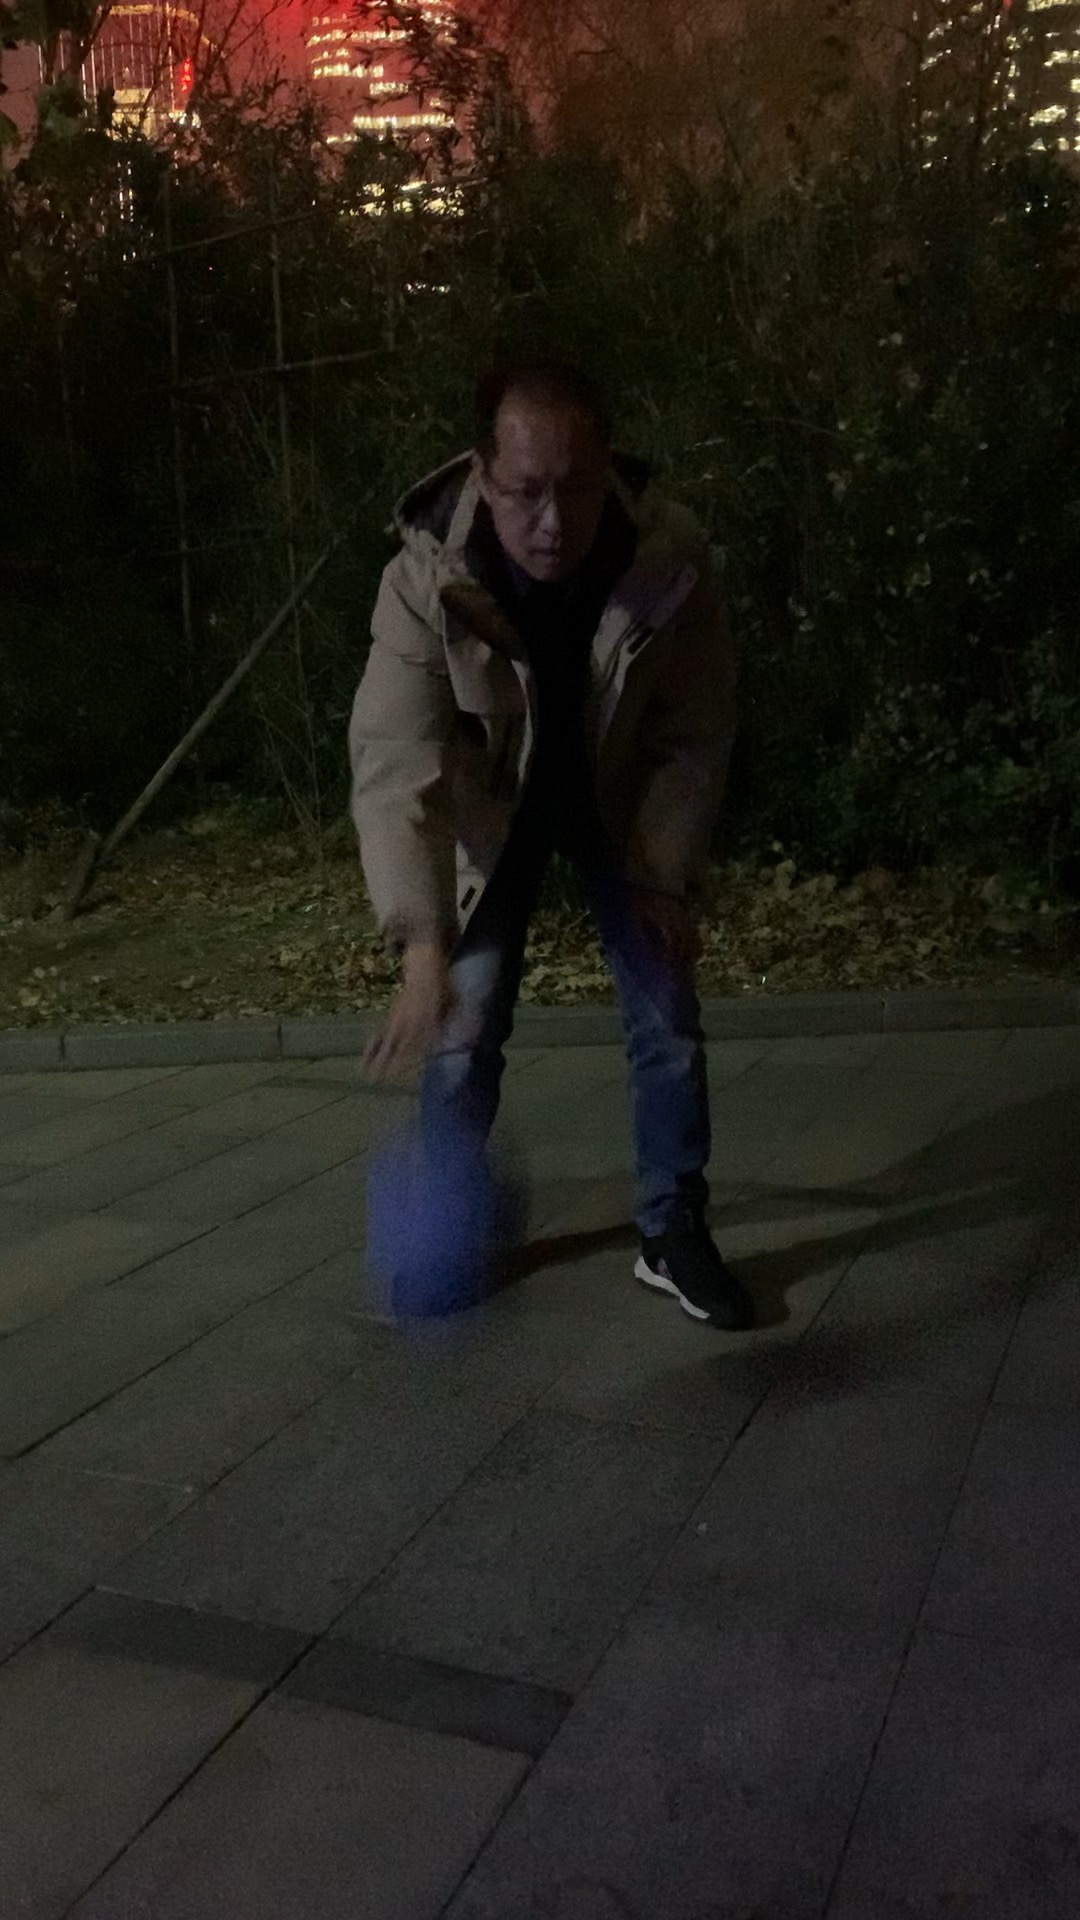ball: (367, 1127, 541, 1313)
